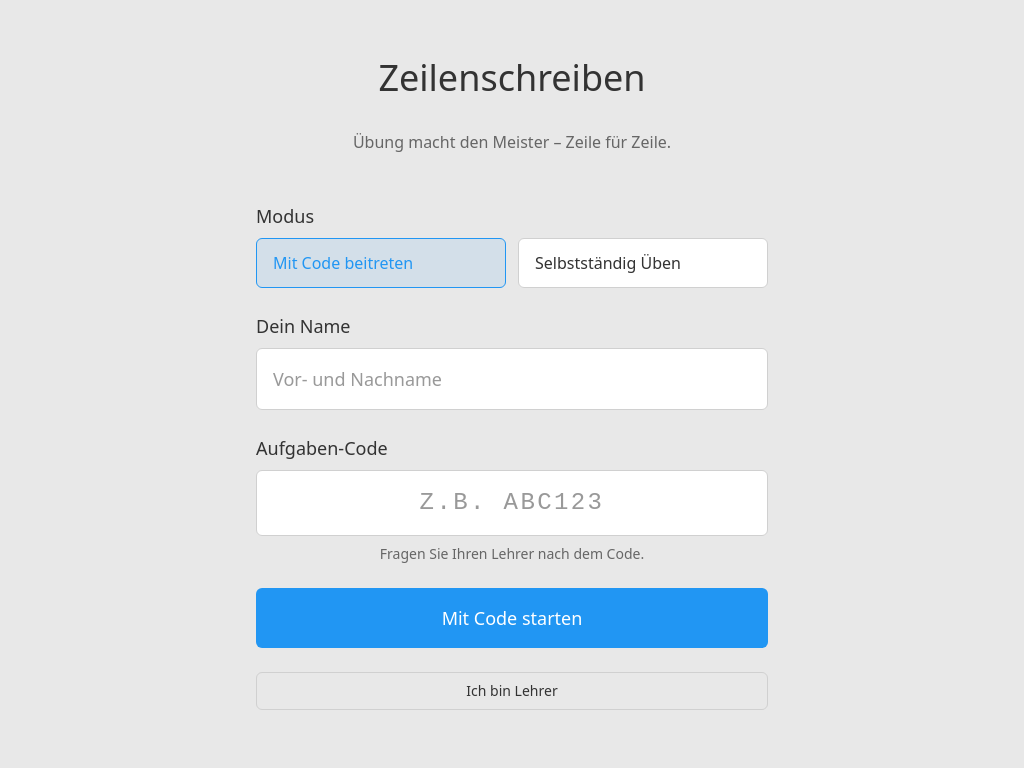
Test: StudentForm › Validation — code join mode › transitions to typing session when valid code is submitted
Step 1. Type "Max Mustermann" into the field with placeholder "Vor- und Nachname" → {"x": 512, "y": 379}, box [256,348,768,410]
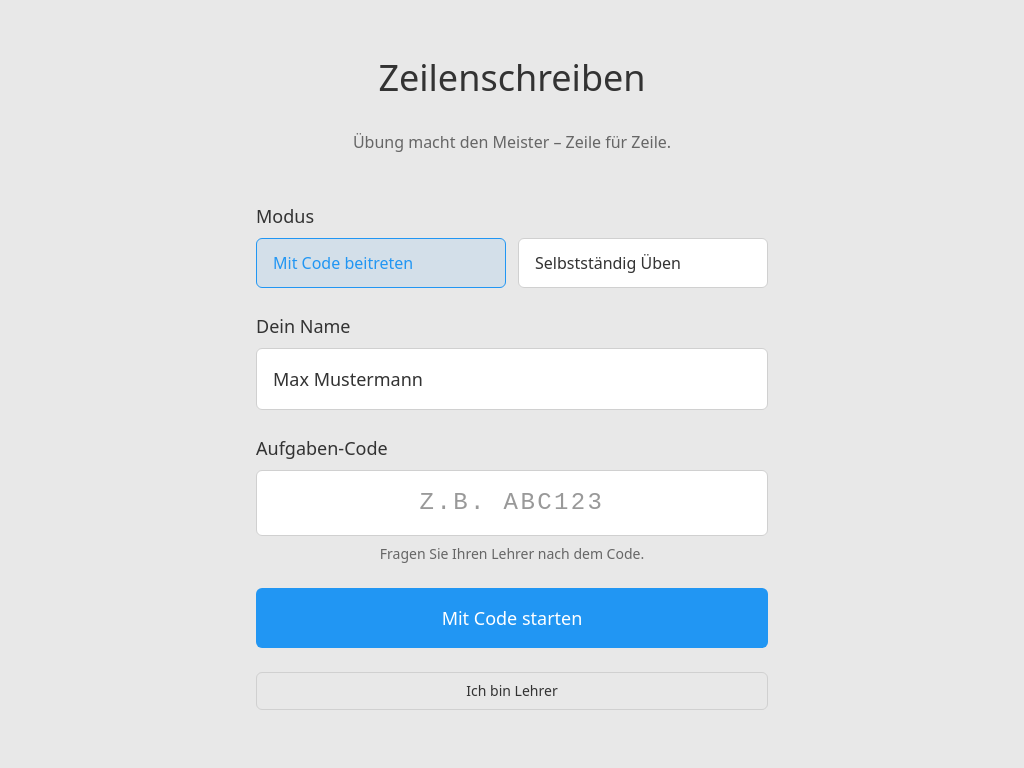
Step 2. Type "ABC123" into the field with placeholder "z.B. ABC123" → {"x": 512, "y": 503}, box [256,470,768,536]
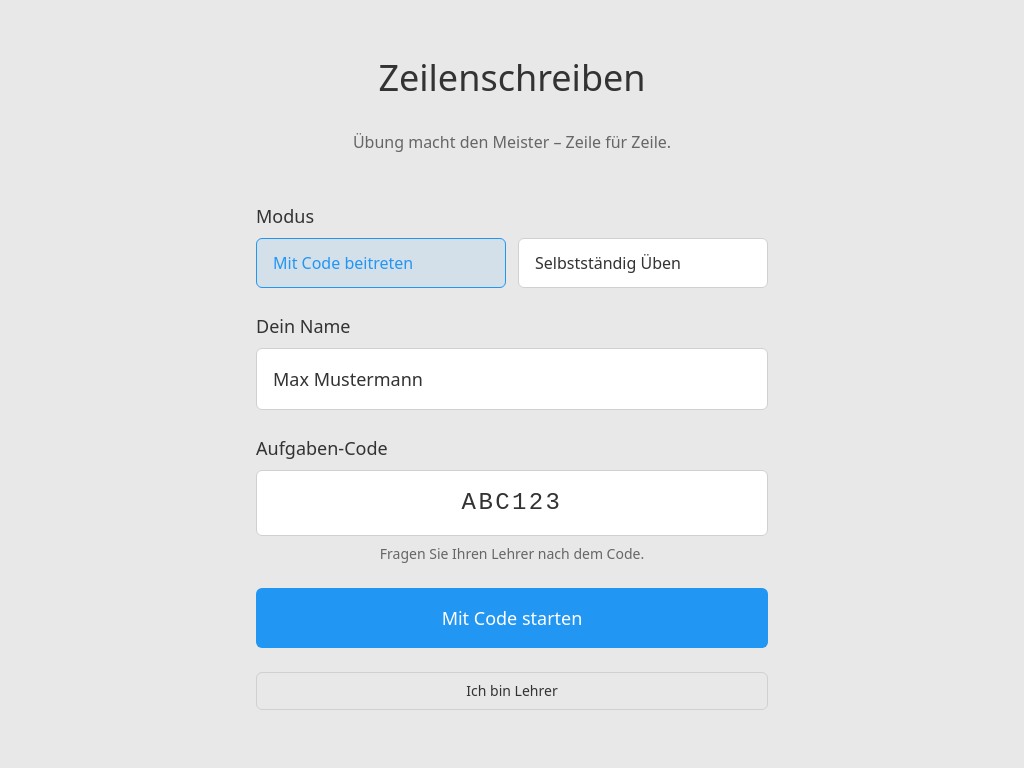
Step 3. Click the button "Mit Code starten" → {"x": 512, "y": 618}, box [256,588,768,648]
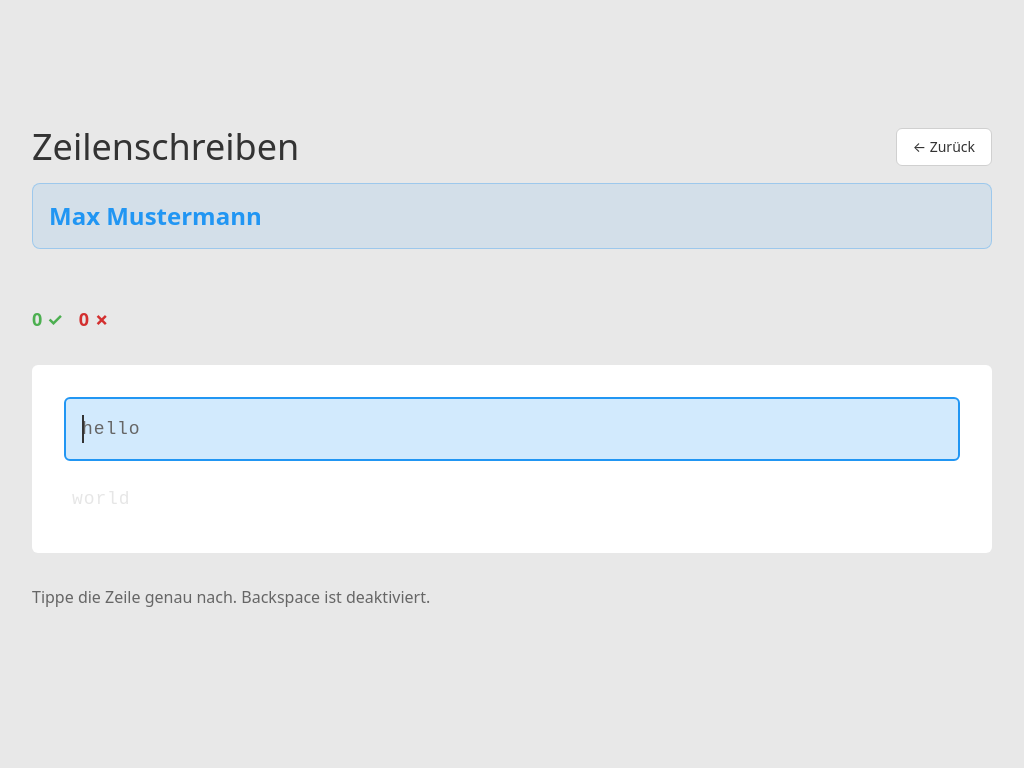
Now the text "Max Mustermann" is shown, box [49,199,262,232]
